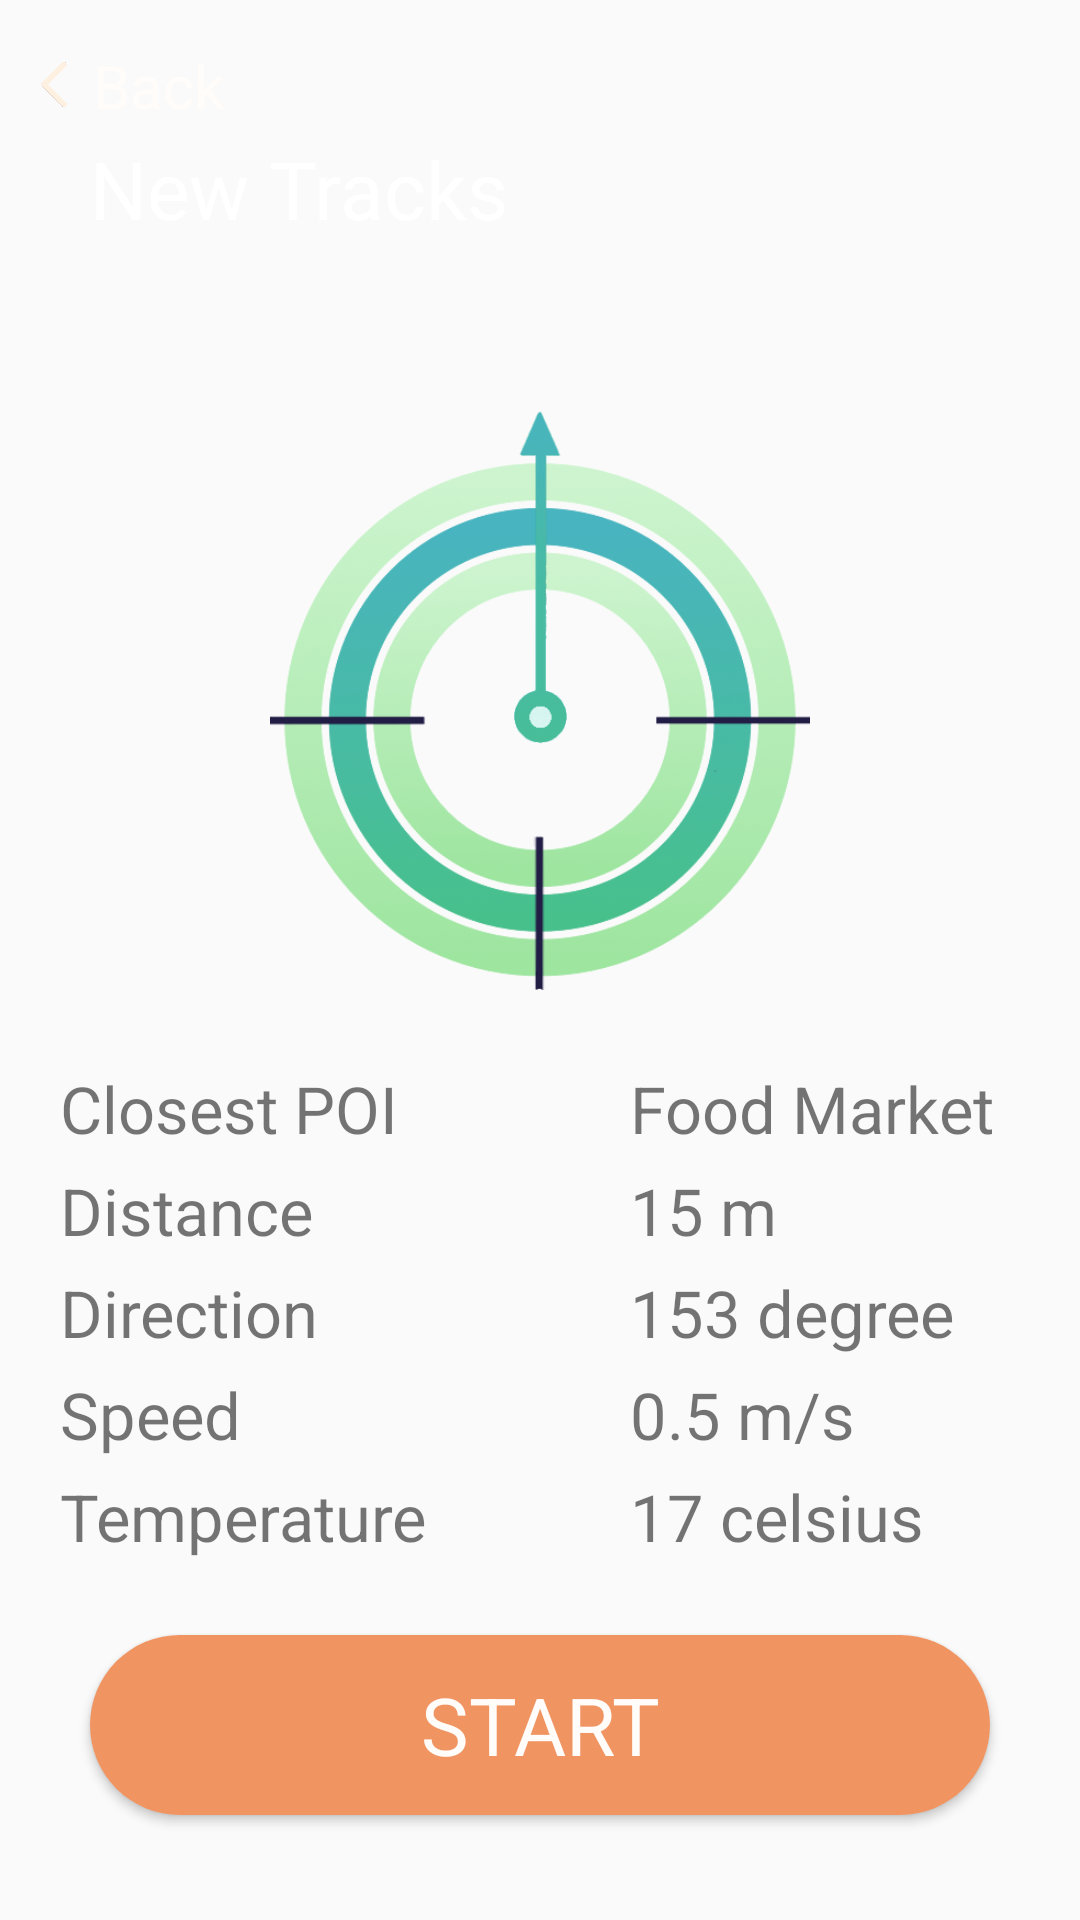

Locate icon controls on the screen. Image size 1080 x 1920, boxes as {"x1": x1, "y1": y1, "x2": x2, "y2": y2}.
arrow: {"x1": 41, "y1": 62, "x2": 67, "y2": 107}
